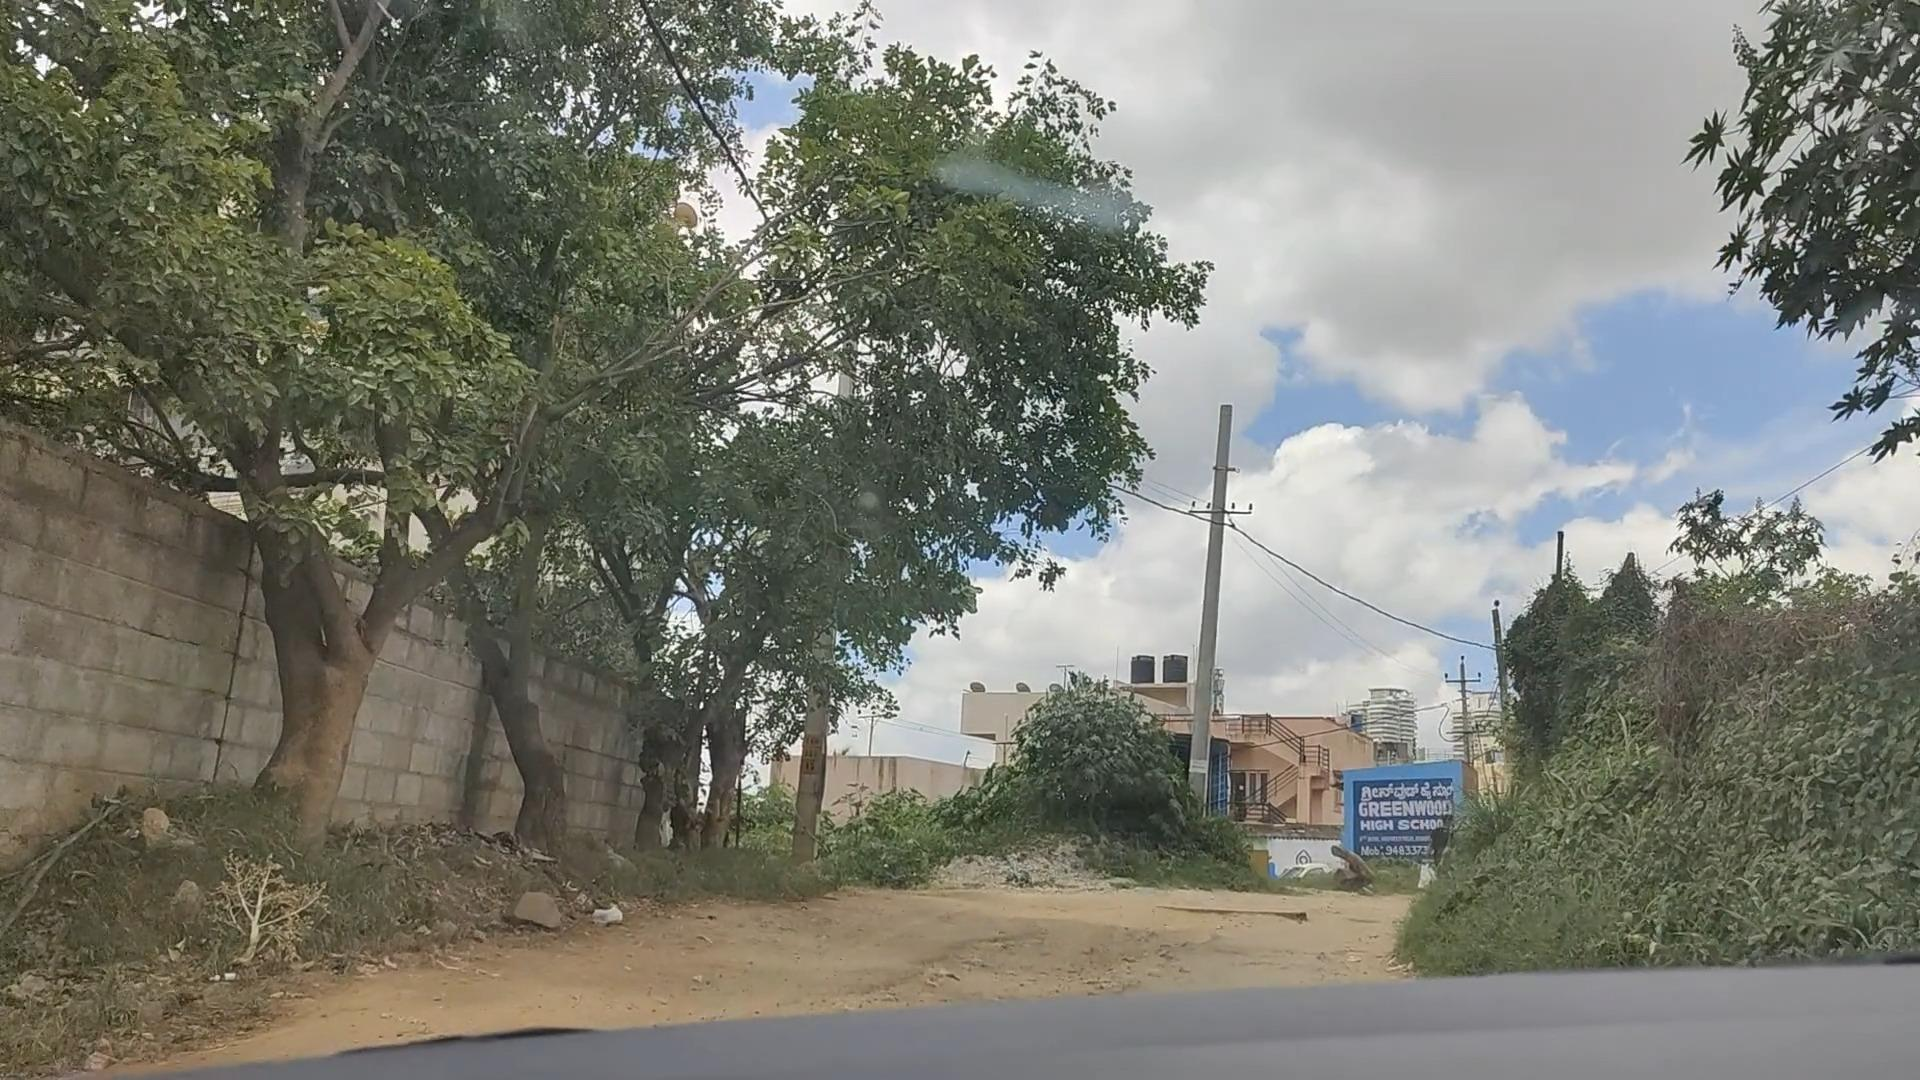RoadDamages: (771, 889, 1195, 1007), (1142, 874, 1321, 935)
